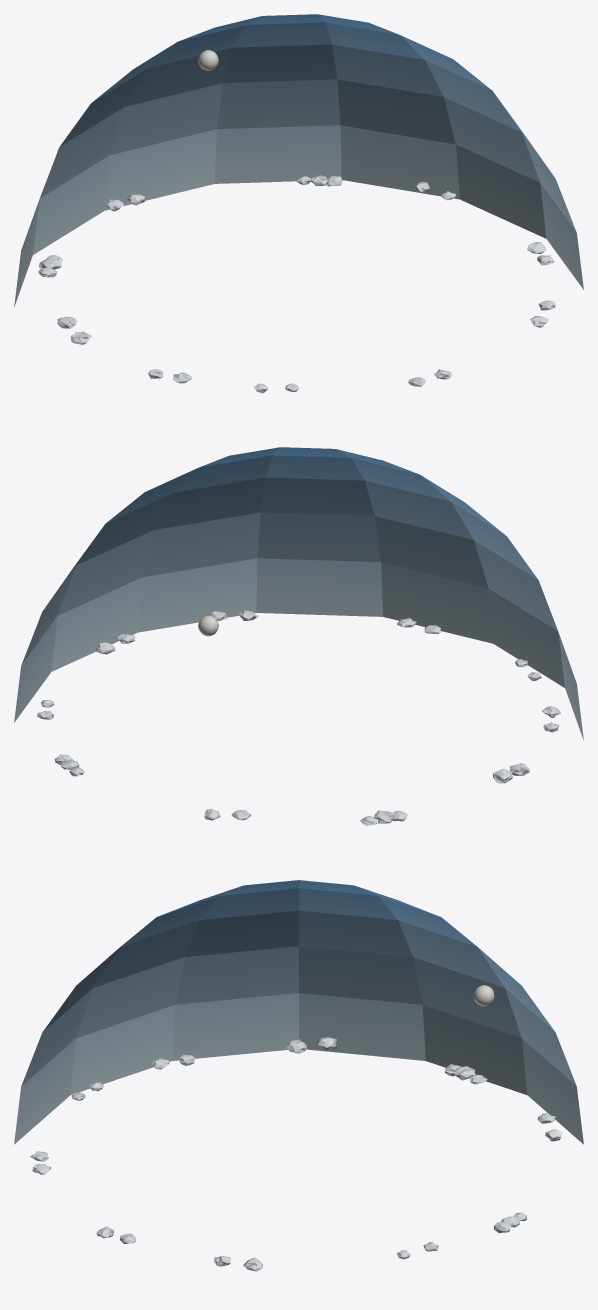
File: day-sky-dome.glb
3 views of the same model, one above another, from view 1: azimuth 30°, elevation 25°; view 2: azimuth 150°, elevation 25°; view 3: azimuth 270°, elevation 25° (orthographic). The views are drawn at different scales.
Visible parts, largest first — view 1: day_sky_dome; view 2: day_sky_dome; view 3: day_sky_dome.
Boxes of the visible parts, left/top/right/bottom form: day_sky_dome: left=14, top=14, right=583, bottom=393; day_sky_dome: left=14, top=447, right=583, bottom=825; day_sky_dome: left=14, top=880, right=583, bottom=1271.
Bounding box in the file's own units: 120 × 60 × 117.
